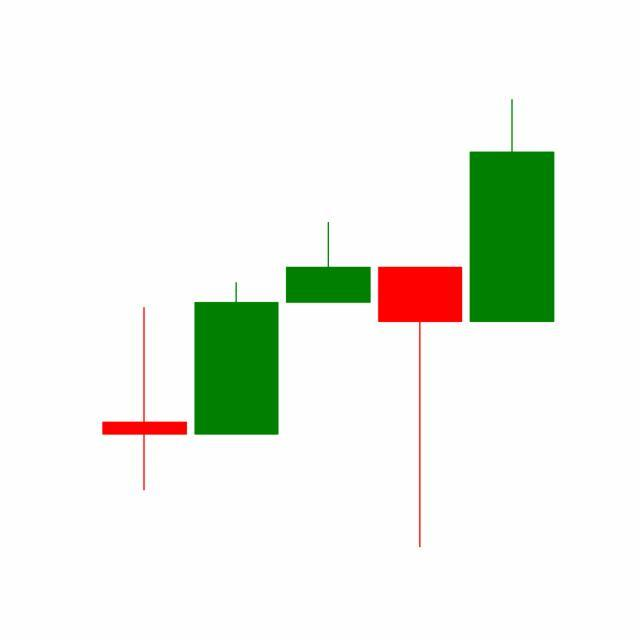Hammer: (374, 263, 468, 551)
